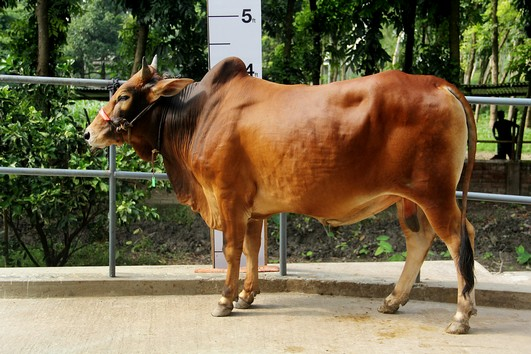cow: (81, 49, 487, 339)
